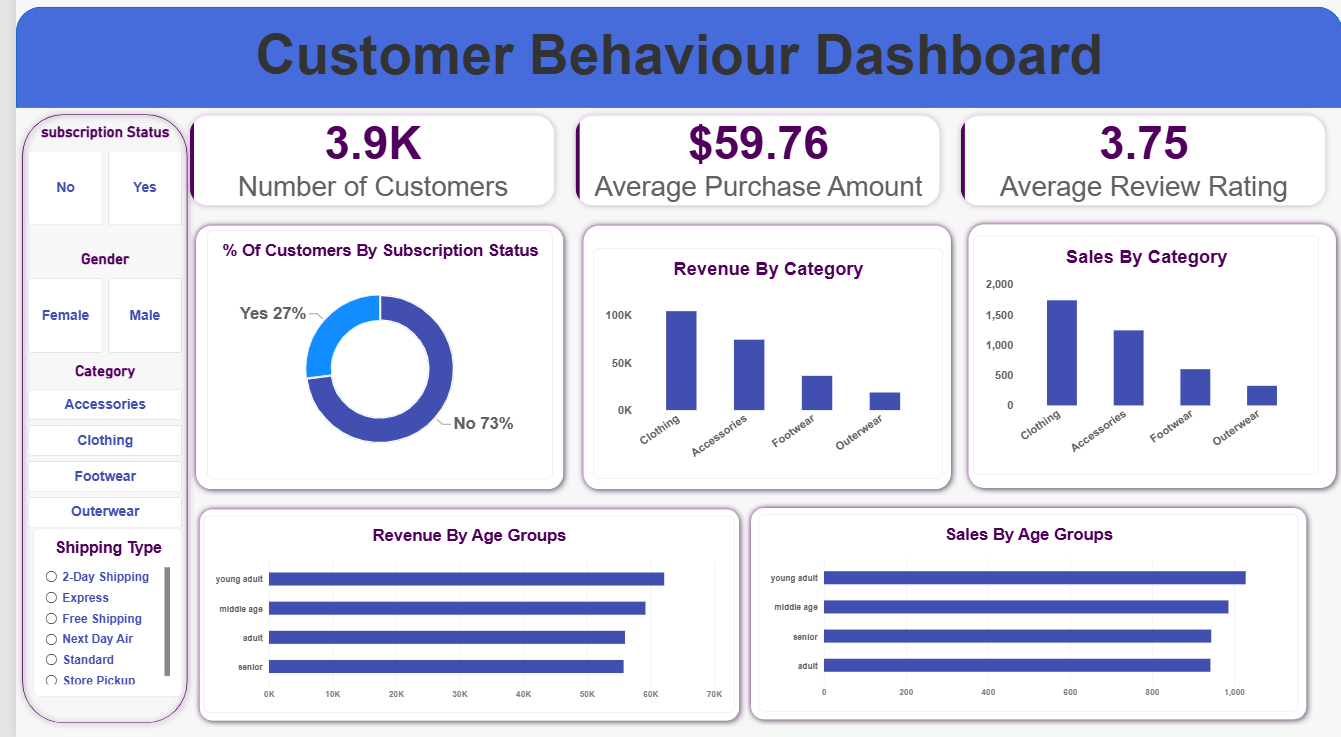

Layout of this report page (visuals, bound fields, positions):
{"tool":"powerbi","page":{"name":"Dashboard","canvas":[1920,1080],"ordinal":0},"visuals":[{"type":"cardVisual","fields":{"Data":["public customer.Number of Customers","public customer.Average Purchase Amount","public customer.Average Review Rating"]},"box":[240,166,1667.2,153.2],"z":0},{"type":"shape","box":[251.5,328.3,550,400],"z":0,"group":"g1"},{"type":"shape","box":[0,20.6,1920.4,146.1],"z":1000},{"type":"donutChart","title":"% Of Customers By Subscription Status","fields":{"Category":["public customer.subscription_status"],"Y":["CountNonNull(public customer.customer_id)"]},"box":[277,343.6,500.2,360.2],"z":1000,"group":"g1"},{"type":"textbox","box":[0,43.2,1920.4,105],"z":2000},{"type":"shape","box":[1369.8,325.7,550,400],"z":2000,"group":"g1"},{"type":"shape","box":[0,166.7,257.3,899.5],"z":3000},{"type":"shape","box":[813.2,328.3,550,400],"z":3000,"group":"g1"},{"type":"advancedSlicerVisual","fields":{"Values":["public customer.subscription_status"]},"box":[18.1,188.2,222.3,148.2],"z":4000},{"type":"clusteredColumnChart","title":"Sales By Category ","fields":{"Category":["public customer.category"],"Y":["CountNonNull(public customer.customer_id)"]},"box":[1385.6,351.9,500.2,345.8],"z":4000,"group":"g1"},{"type":"clusteredColumnChart","title":"Revenue By Category ","fields":{"Category":["public customer.category"],"Y":["Sum(public customer.purchase_amount)"]},"box":[836.8,369.6,505.5,334.5],"z":5000,"group":"g1"},{"type":"advancedSlicerVisual","fields":{"Values":["public customer.gender"]},"box":[18.5,372.6,222.3,148.2],"z":5000},{"type":"advancedSlicerVisual","fields":{"Values":["public customer.category"]},"box":[18.5,533.1,222.3,240.8],"z":6000},{"type":"listSlicer","title":"Shipping Type","fields":{"Values":["public customer.shipping_type"]},"box":[25.3,774.5,215.3,244.3],"z":7000},{"type":"clusteredBarChart","title":"Revenue By Age Groups","fields":{"Category":["public customer.age_group"],"Y":["Sum(public customer.purchase_amount)"]},"box":[271.7,757.5,768.5,286],"z":8000,"group":"g2"},{"type":"group","id":"g1","title":"Group 1","box":[251.5,325.7,1668.3,402.6],"z":9000},{"type":"shape","box":[257.3,738.9,799.1,324.3],"z":11000},{"type":"shape","box":[1055.9,736.9,822.1,324.3],"z":12000,"group":"g2"},{"type":"clusteredBarChart","title":"Sales By Age Groups","fields":{"Category":["public customer.age_group"],"Y":["CountNonNull(public customer.customer_id)"]},"box":[1074.4,755.4,781.3,286],"z":13000,"group":"g2"},{"type":"group","id":"g2","title":"Group 2","box":[271.7,736.9,1606.3,324.3],"z":13001}]}

Visuals, with their boxes in screenshot pixels (x1, y1, x2, y2), scaled from the page's 1920x1080 canvas onto the 1341x737 screenshot:
cardVisual - public customer.Number of Customers x public customer.Average Purchase Amount: Rect(168, 113, 1332, 218)
shape: Rect(176, 224, 560, 497)
shape: Rect(0, 14, 1340, 114)
"% Of Customers By Subscription Status" donutChart: Rect(193, 234, 543, 480)
textbox: Rect(0, 29, 1340, 101)
shape: Rect(957, 222, 1340, 495)
shape: Rect(0, 114, 180, 728)
shape: Rect(568, 224, 952, 497)
advancedSlicerVisual - public customer.subscription_status: Rect(13, 128, 168, 230)
"Sales By Category " clusteredColumnChart: Rect(968, 240, 1317, 476)
"Revenue By Category " clusteredColumnChart: Rect(584, 252, 938, 480)
advancedSlicerVisual - public customer.gender: Rect(13, 254, 168, 355)
advancedSlicerVisual - public customer.category: Rect(13, 364, 168, 528)
"Shipping Type" listSlicer: Rect(18, 529, 168, 695)
"Revenue By Age Groups" clusteredBarChart: Rect(190, 517, 727, 712)
"Group 1" group: Rect(176, 222, 1340, 497)
shape: Rect(180, 504, 738, 726)
shape: Rect(737, 503, 1312, 724)
"Sales By Age Groups" clusteredBarChart: Rect(750, 515, 1296, 711)
"Group 2" group: Rect(190, 503, 1312, 724)
